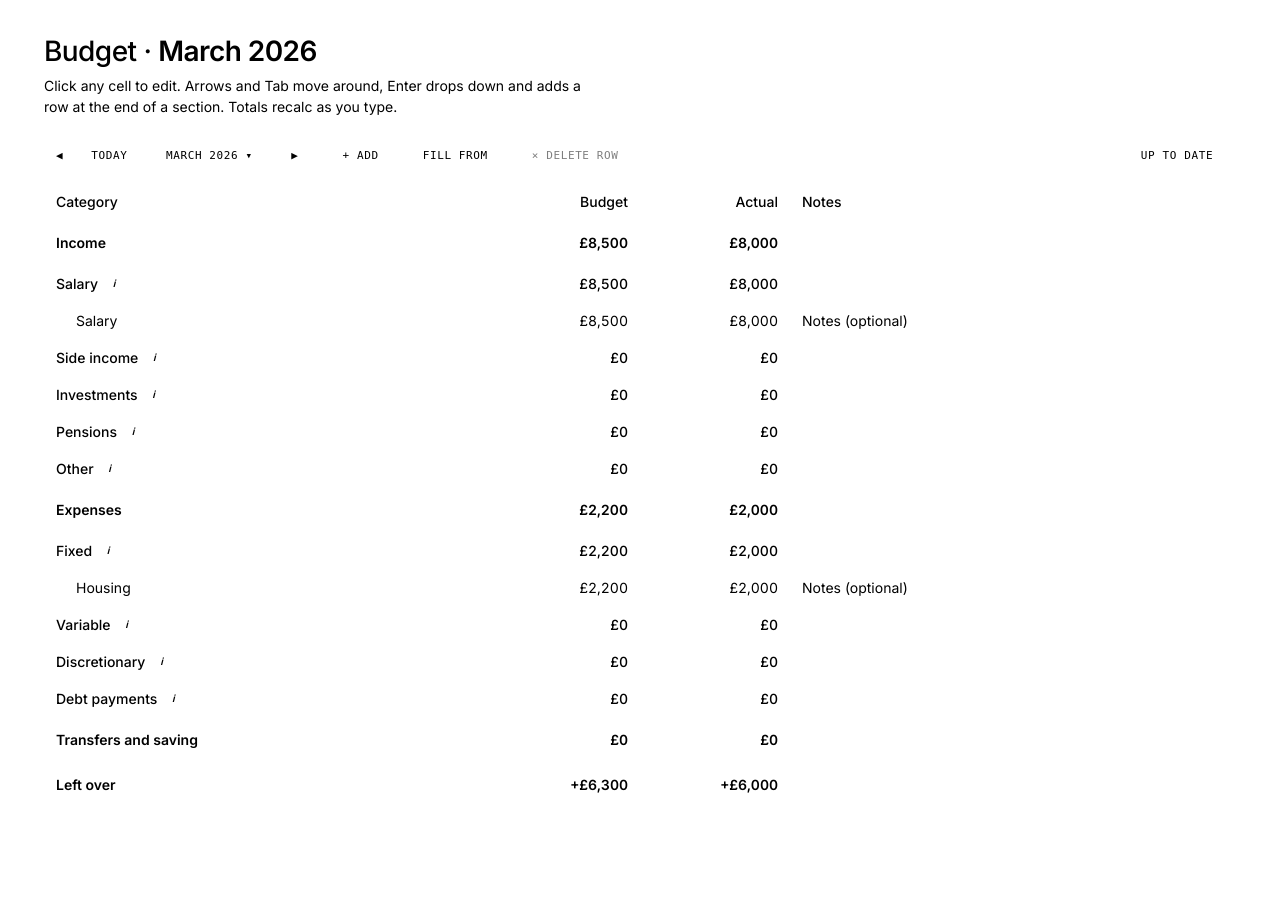
Test case: BudgetSheet — the Add drawer's account picker › a transfer may only target an asset account
What coordinates should you click on to do the following:
click the button "+ Add"
I would click on:
 (361, 156)
Its box is [331,141,391,171].
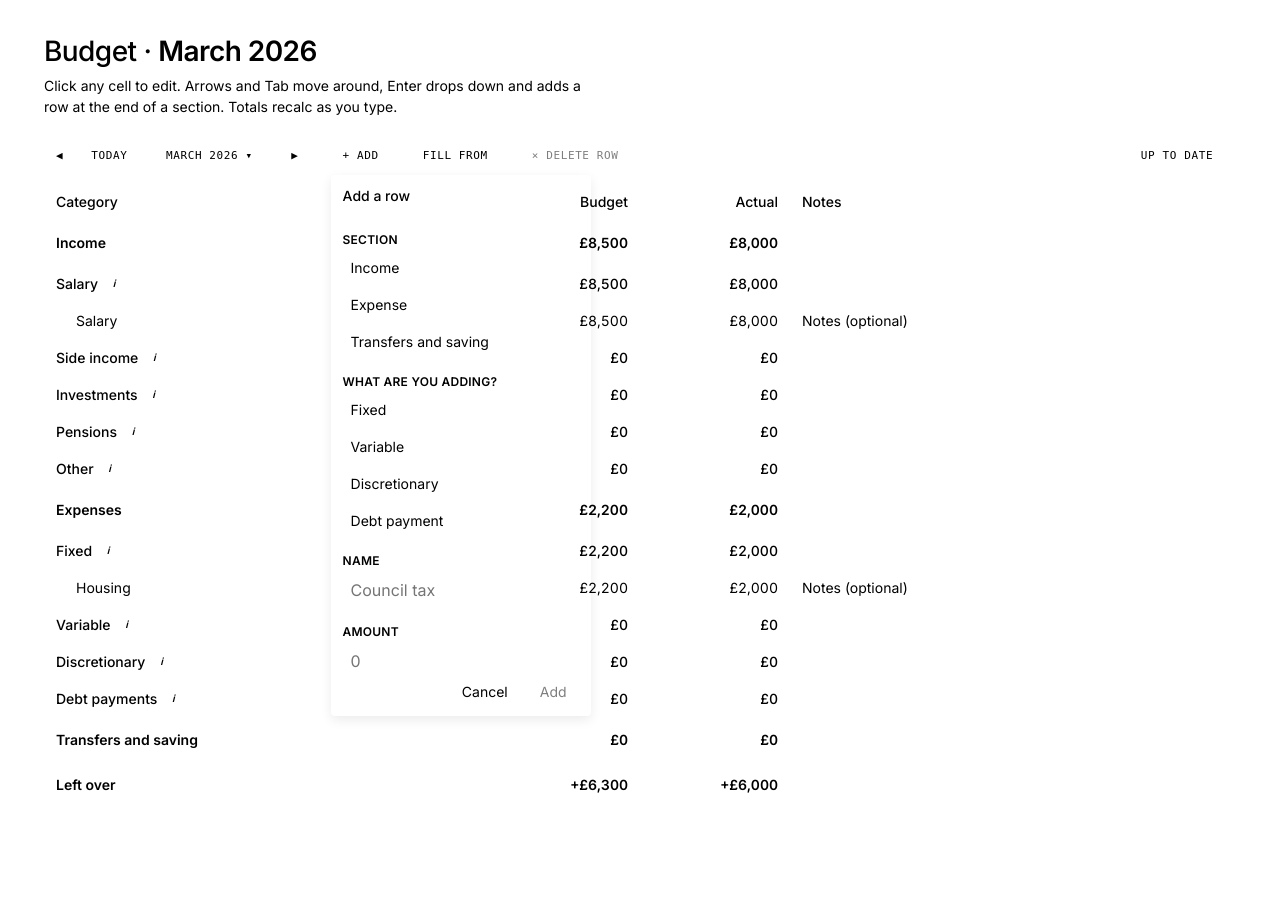
What coordinates should you click on to do the following:
click the button "Transfers and saving"
I would click on:
 (461, 341)
Its box is [343,325,579,358].
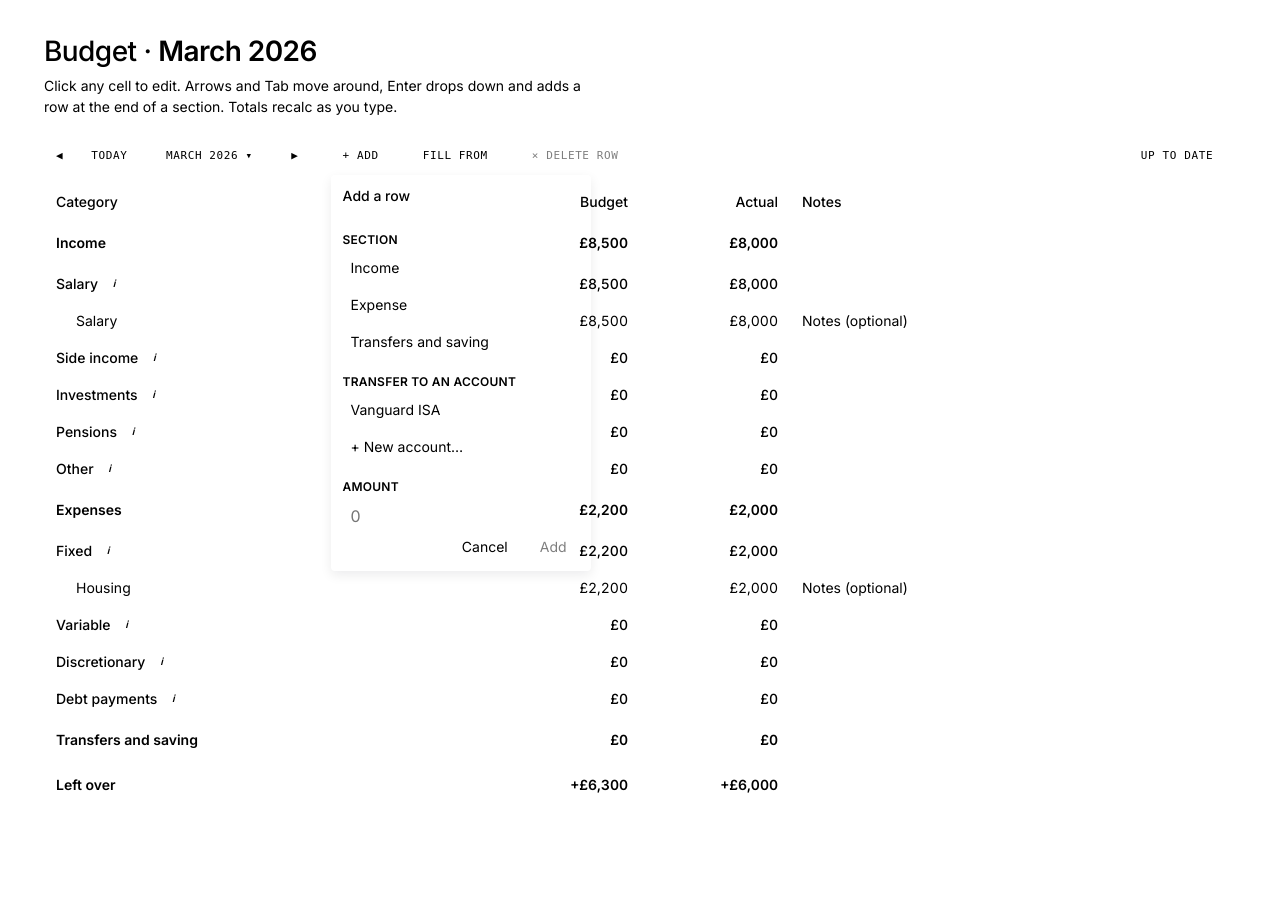
Expected: the button "Vanguard ISA" is shown, [343,393,579,426]
